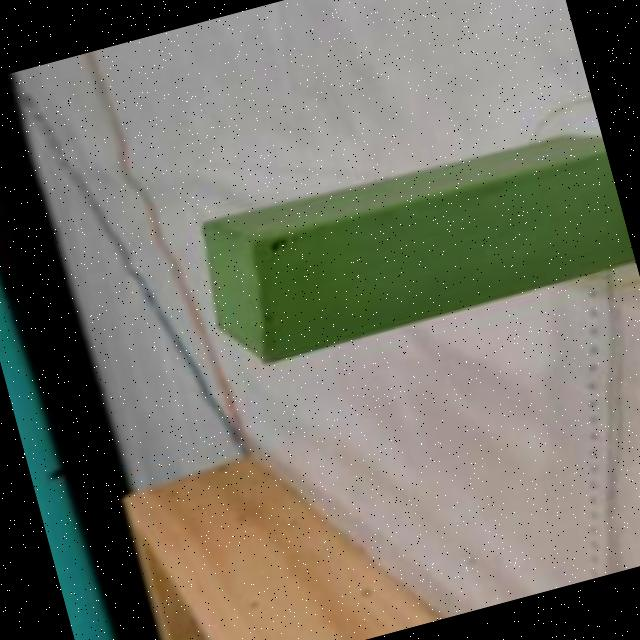greenbox: (188, 114, 637, 376)
